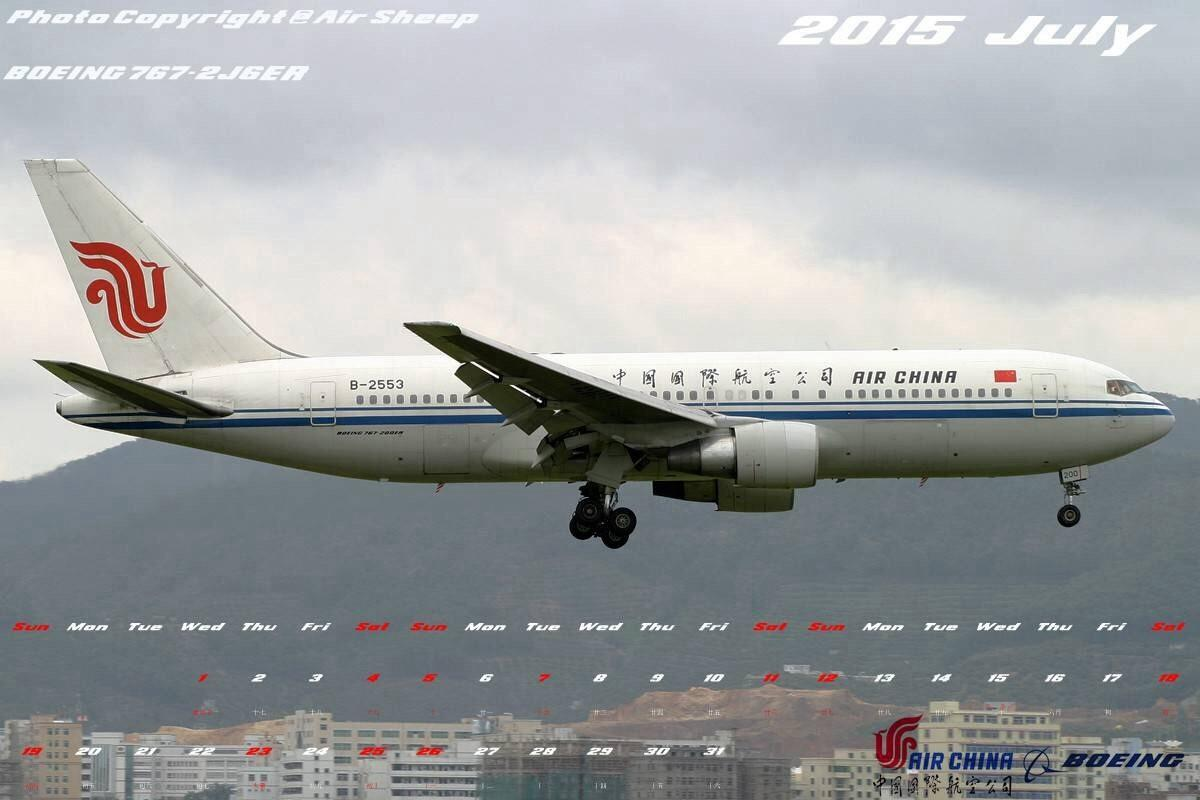airplane: (12, 151, 1181, 540)
